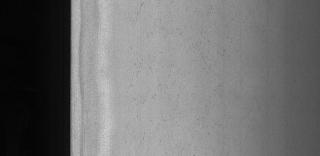silk spot: (127, 0, 225, 116)
